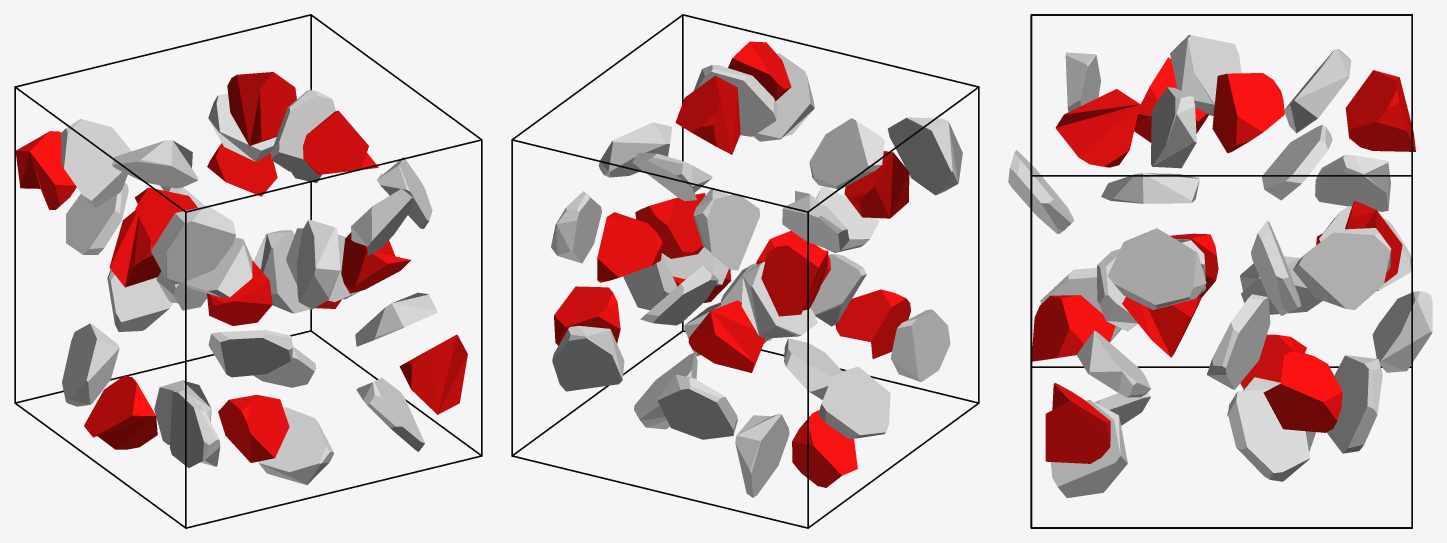
File: 3Duc_pf0p6.glb
3 views of the same model, side by side, from view 1: azimuth 30°, elevation 25°; view 2: azimuth 150°, elevation 25°; view 3: azimuth 270°, elevation 25° (orthographic). The views are drawn at different scales.
Bounding box in the file's own units: 7.06 × 7.93 × 7.21.
